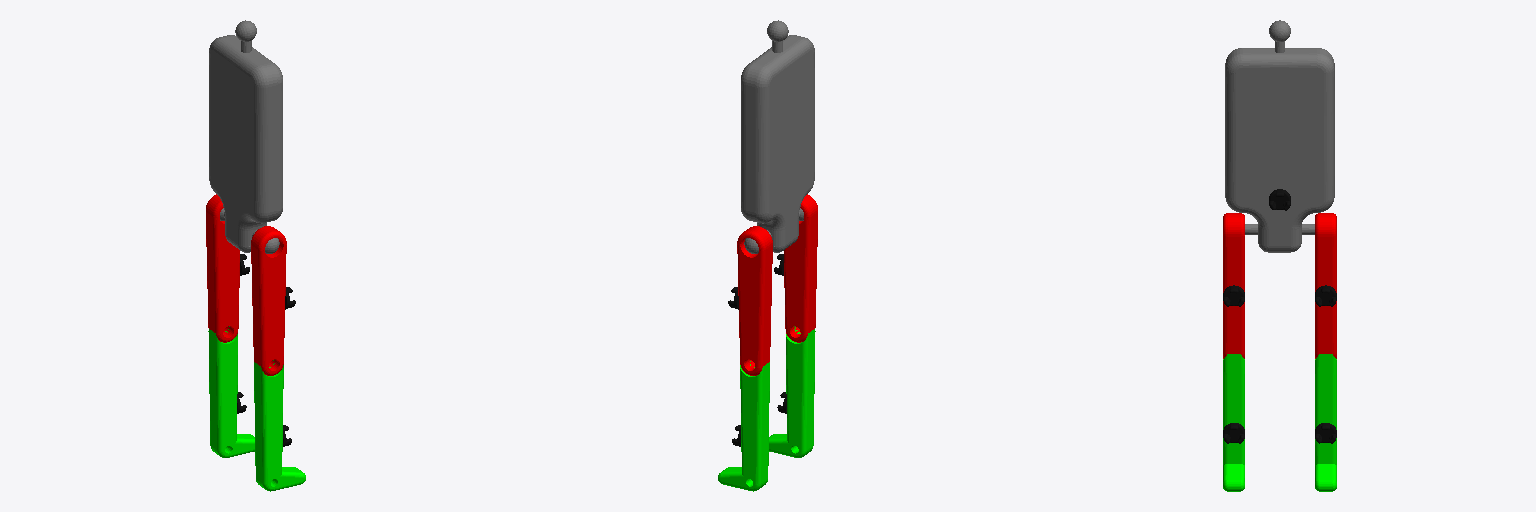
The robot description file, URDF, robot "seto_scararobot":
<?xml version="1.0" ?>
<robot name="seto_scararobot">

    <link name="world"/>

    <link name="base_link"/>

    <link name="head_1_link"/>

    <link name="head_2_link"/>

    <link name="body_link">
        <visual>
            <geometry>
                <mesh filename="package://damitora_description/meshes/body.stl" />
            </geometry>
            <material name="gray">
                <color rgba="0.5 0.5 0.5 1.0" />
            </material>
        </visual>
    </link>

    <link name="upper_leg_R1_link"/>

    <link name="upper_leg_R2_link"/>

    <link name="upper_leg_R3_link">
        <visual>
            <geometry>
                <mesh filename="package://damitora_description/meshes/upper_leg.stl" />
            </geometry>
            <material name="red">
                <color rgba="1.0 0.0 0.0 1.0" />
            </material>
        </visual>
    </link>

    <link name="lower_leg_R_link">
        <visual>
            <geometry>
                <mesh filename="package://damitora_description/meshes/lower_leg.stl" />
            </geometry>
            <material name="green">
                <color rgba="0.0 1.0 0. 1.0" />
            </material>
        </visual>
    </link>

    <link name="upper_leg_L1_link"/>

    <link name="upper_leg_L2_link"/>

    <link name="upper_leg_L3_link">
        <visual>
            <geometry>
                <mesh filename="package://damitora_description/meshes/upper_leg.stl" />
            </geometry>
            <material name="red">
                <color rgba="1.0 0.0 0.0 1.0" />
            </material>
        </visual>
    </link>

    <link name="lower_leg_L_link">
        <visual>
            <geometry>
                <mesh filename="package://damitora_description/meshes/lower_leg.stl" />
            </geometry>
            <material name="green">
                <color rgba="0.0 1.0 0. 1.0" />
            </material>
        </visual>
    </link>

    <link name="tracker_C_link">
        <visual>
            <geometry>
                <mesh filename="package://damitora_description/meshes/tracker.stl" />
            </geometry>
            <material name="black">
                <color rgba="0.1 0.1 0.1 1.0" />
            </material>
        </visual>
    </link>

    <link name="tracker_R_link">
        <visual>
            <geometry>
                <mesh filename="package://damitora_description/meshes/tracker.stl" />
            </geometry>
            <material name="black">
                <color rgba="0.1 0.1 0.1 1.0" />
            </material>
        </visual>
    </link>

    <link name="tracker_R_link2">
        <visual>
            <geometry>
                <mesh filename="package://damitora_description/meshes/tracker.stl" />
            </geometry>
            <material name="black">
                <color rgba="0.1 0.1 0.1 1.0" />
            </material>
        </visual>
    </link>

    <link name="tracker_L_link">
        <visual>
            <geometry>
                <mesh filename="package://damitora_description/meshes/tracker.stl" />
            </geometry>
            <material name="black">
                <color rgba="0.1 0.1 0.1 1.0" />
            </material>
        </visual>
    </link>

    <link name="tracker_L_link2">
        <visual>
            <geometry>
                <mesh filename="package://damitora_description/meshes/tracker.stl" />
            </geometry>
            <material name="black">
                <color rgba="0.1 0.1 0.1 1.0" />
            </material>
        </visual>
    </link>
    <!-- ワールド -->

    <joint name="fixed_world" type="fixed">
        <parent link="world"/>
        <child link="base_link"/>
        <origin xyz="0 0 0" rpy="0 0 0" />
    </joint>

    <!-- 首 -->

    <joint name="head_R" type="revolute">
        <parent link="base_link" />
        <child link="head_1_link" />
        <origin xyz="0 0 0" rpy="0 0 0" />
        <axis xyz="1 0 0" />
        <limit effort="1000.0" lower="-3.14159" upper="3.14159" velocity="2.0" />
    </joint>

    <joint name="head_P" type="revolute">
        <parent link="head_1_link" />
        <child link="head_2_link" />
        <origin xyz="0 0 0" rpy="0 0 0" />
        <axis xyz="0 -1 0" />
        <limit effort="1000.0" lower="-3.14159" upper="3.14159" velocity="2.0" />
    </joint>

    <joint name="head_Y" type="revolute">
        <parent link="head_2_link" />
        <child link="body_link" />
        <origin xyz="0 0 0" rpy="0 0 0" />
        <axis xyz="0 0 -1" />
        <limit effort="1000.0" lower="-3.14159" upper="3.14159" velocity="2.0" />
    </joint>

    <!-- 右足 -->

    <joint name="R_upper_leg_Y" type="revolute">
        <parent link="body_link" />
        <child link="upper_leg_R1_link" />
        <origin xyz="0 -0.021 -0.1" rpy="0 0 0" />
        <axis xyz="0 0 -1" />
        <limit effort="1000.0" lower="-3.14159" upper="3.14159" velocity="2.0" />
    </joint>

    <joint name="R_upper_leg_R" type="revolute">
        <parent link="upper_leg_R1_link" />
        <child link="upper_leg_R2_link" />
        <origin xyz="0 0 0" rpy="0 0 0" />
        <axis xyz="1 0 0" />
        <limit effort="1000.0" lower="-3.14159" upper="3.14159" velocity="2.0" />
    </joint>

    <joint name="R_upper_leg_P" type="revolute">
        <parent link="upper_leg_R2_link" />
        <child link="upper_leg_R3_link" />
        <origin xyz="0 0 0" rpy="0 0 0" />
        <axis xyz="0 -1 0" />
        <limit effort="1000.0" lower="-3.14159" upper="3.14159" velocity="2.0" />
    </joint>

    <joint name="R_lower_leg_P" type="revolute">
        <parent link="upper_leg_R3_link" />
        <child link="lower_leg_R_link" />
        <origin xyz="0 0 -0.06" rpy="0 0 0" />
        <axis xyz="0 1 0" />
        <limit effort="1000.0" lower="0" upper="3.14159" velocity="2.0" />
    </joint>

    <!-- 左足 -->

    <joint name="L_upper_leg_Y" type="revolute">
        <parent link="body_link" />
        <child link="upper_leg_L1_link" />
        <origin xyz="0 0.021 -0.1" rpy="0 0 0" />
        <axis xyz="0 0 -1" />
        <limit effort="1000.0" lower="-3.14159" upper="3.14159" velocity="2.0" />
    </joint>

    <joint name="L_upper_leg_R" type="revolute">
        <parent link="upper_leg_L1_link" />
        <child link="upper_leg_L2_link" />
        <origin xyz="0 0 0" rpy="0 0 0" />
        <axis xyz="1 0 0" />
        <limit effort="1000.0" lower="-3.14159" upper="3.14159" velocity="2.0" />
    </joint>

    <joint name="L_upper_leg_P" type="revolute">
        <parent link="upper_leg_L2_link" />
        <child link="upper_leg_L3_link" />
        <origin xyz="0 0 0" rpy="0 0 0" />
        <axis xyz="0 1 0" />
        <limit effort="1000.0" lower="-3.14159" upper="3.14159" velocity="2.0" />
    </joint>

    <joint name="L_lower_leg_P" type="revolute">
        <parent link="upper_leg_L3_link" />
        <child link="lower_leg_L_link" />
        <origin xyz="0 0 -0.06" rpy="0 0 0" />
        <axis xyz="0 -1 0" />
        <limit effort="1000.0" lower="-3.14159" upper="0" velocity="2.0" />
    </joint>

    <!-- トラッカー -->

    <joint name="fixed_tracker_C" type="fixed">
        <parent link="body_link"/>
        <child link="tracker_C_link"/>
        <origin xyz="0.01 0 -0.08" rpy="0 0 0" />
    </joint>

    <joint name="fixed_tracker_R" type="fixed">
        <parent link="lower_leg_R_link"/>
        <child link="tracker_R_link"/>
        <origin xyz="0.005 0 -0.04" rpy="0 0 0" />
    </joint>

    <joint name="fixed_tracker_R2" type="fixed">
        <parent link="upper_leg_R3_link"/>
        <child link="tracker_R_link2"/>
        <origin xyz="0.007 0 -0.03" rpy="0 0 0" />
    </joint>


    <joint name="fixed_tracker_L" type="fixed">
        <parent link="lower_leg_L_link"/>
        <child link="tracker_L_link"/>
        <origin xyz="0.005 0 -0.04" rpy="0 0 0" />
    </joint>

    <joint name="fixed_tracker_L2" type="fixed">
        <parent link="upper_leg_L3_link"/>
        <child link="tracker_L_link2"/>
        <origin xyz="0.007 0 -0.03" rpy="0 0 0" />
    </joint>

</robot>

--- What the picture shows (computed from the rendered views, not written in the file) ---
Views: 3 orthographic renders of the robot side by side, from view 1: azimuth 30°, elevation 25°; view 2: azimuth 150°, elevation 25°; view 3: azimuth 270°, elevation 25°.
Model seto_scararobot with 18 links and 17 joints (11 revolute, 6 fixed), rooted at world, posed every joint at zero.
Visible links, largest first — view 1: body_link, upper_leg_R3_link, upper_leg_L3_link, lower_leg_R_link, lower_leg_L_link; view 2: body_link, upper_leg_L3_link, upper_leg_R3_link, lower_leg_L_link, lower_leg_R_link; view 3: body_link, upper_leg_R3_link, upper_leg_L3_link, lower_leg_L_link, lower_leg_R_link.
Link boxes in pixels (left/top/right/bottom): body_link: left=209, top=20, right=282, bottom=253; upper_leg_R3_link: left=251, top=226, right=286, bottom=375; upper_leg_L3_link: left=206, top=194, right=239, bottom=342; lower_leg_R_link: left=254, top=360, right=305, bottom=491; lower_leg_L_link: left=208, top=326, right=254, bottom=457; body_link: left=741, top=20, right=814, bottom=253; upper_leg_L3_link: left=737, top=226, right=772, bottom=375; upper_leg_R3_link: left=784, top=194, right=817, bottom=342; lower_leg_L_link: left=718, top=361, right=769, bottom=491; lower_leg_R_link: left=769, top=326, right=815, bottom=457; body_link: left=1225, top=20, right=1334, bottom=252; upper_leg_R3_link: left=1223, top=213, right=1244, bottom=358; upper_leg_L3_link: left=1315, top=213, right=1336, bottom=358; lower_leg_L_link: left=1315, top=354, right=1336, bottom=491; lower_leg_R_link: left=1223, top=354, right=1244, bottom=491.
Bounding box of the posed robot: 0.0255 × 0.052 × 0.2299 m (x, y, z).
Meshes: 4 distinct files referenced, 10 mesh visuals loaded (4 binary STL).
